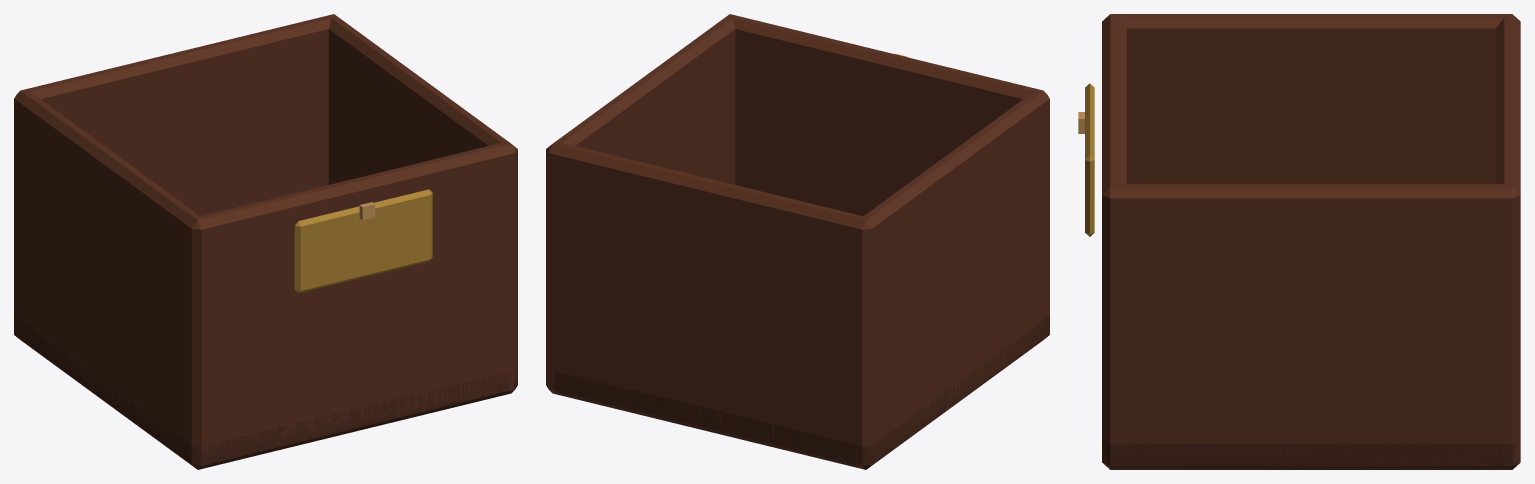
Rendered from bin.glb.
3 views of the same model, side by side, from view 1: azimuth 30°, elevation 25°; view 2: azimuth 150°, elevation 25°; view 3: azimuth 270°, elevation 25° (orthographic). The views are drawn at different scales.
Parts seen in each view (by area): view 1: Body_mesh, CountTag_mesh; view 2: Body_mesh; view 3: Body_mesh, CountTag_mesh.
Part boxes in pixels (x1,y1,x2,y2): Body_mesh: [14, 14, 517, 469]; CountTag_mesh: [294, 189, 432, 293]; Body_mesh: [546, 14, 1049, 469]; Body_mesh: [1102, 14, 1520, 469]; CountTag_mesh: [1078, 83, 1094, 236].
Bounding box in the file's own units: 0.52 × 0.38 × 0.539.
